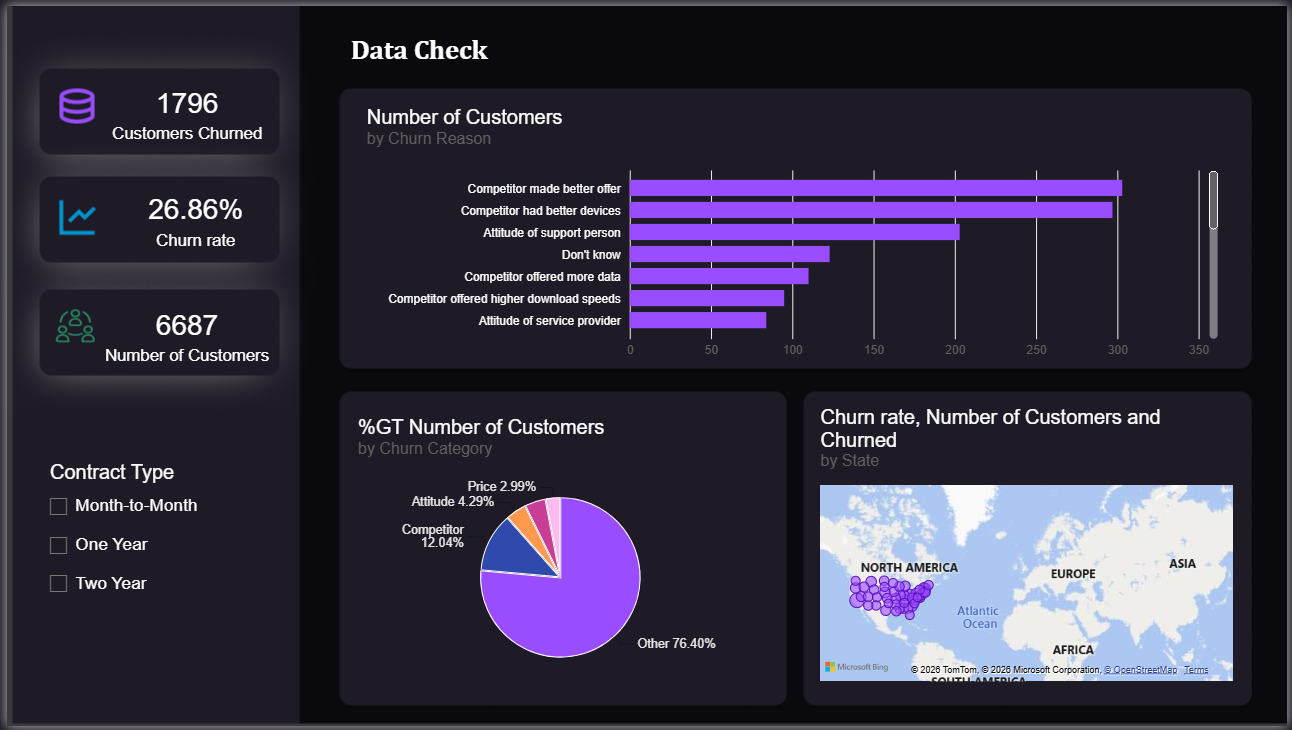

The page's visual inventory and layout, read from the dashboard file:
{"tool":"powerbi","page":{"name":"Data Check","canvas":[1280,720],"ordinal":0},"visuals":[{"type":"card","fields":{"Values":["Databel - Data.Number of Customers"]},"box":[70,264.2,220,130],"z":0},{"type":"card","title":"Customer Churned","fields":{"Values":["Sum(Databel - Data.churned cusomers)"]},"box":[78.4,60.3,202.9,92.9],"z":1000},{"type":"card","fields":{"Values":["Databel - Data.Churn rate"]},"box":[29,162.9,320,101.4],"z":2000},{"type":"clusteredBarChart","fields":{"Category":["Databel - Data.Churn Reason"],"Y":["Divide(Databel - Data.Number of Customers, ScopedEval(Databel - Data.Number of Customers, []))"]},"box":[343.8,84.5,882.9,285.7],"z":3000},{"type":"pieChart","fields":{"Category":["Databel - Data.Churn Category"],"Y":["Divide(Databel - Data.Number of Customers, ScopedEval(Databel - Data.Number of Customers, []))"]},"box":[335.4,394.5,436.7,296.8],"z":4000},{"type":"map","fields":{"Category":["Databel - Data.State"],"Size":["Databel - Data.Churn rate"]},"box":[797.5,384.9,445.2,306.4],"z":5000},{"type":"slicer","fields":{"Values":["Databel - Data.Contract Type"]},"box":[35,454.8,241.4,214.3],"z":6000},{"type":"textbox","box":[343.8,27.7,295.6,44.6],"z":7000}]}

Visuals, with their boxes in screenshot pixels (x1, y1, x2, y2), scaled from the page's 1280x720 canvas onto the 1292x730 screenshot:
card - Databel - Data.Number of Customers: <box>71,268,293,400</box>
"Customer Churned" card: <box>79,61,284,155</box>
card - Databel - Data.Churn rate: <box>29,165,352,268</box>
clusteredBarChart - Databel - Data.Churn Reason x Divide(Databel - Data.Number of Customers, ScopedEval(Databel - Data.Number of Customers, [])): <box>347,86,1238,375</box>
pieChart - Databel - Data.Churn Category x Divide(Databel - Data.Number of Customers, ScopedEval(Databel - Data.Number of Customers, [])): <box>339,400,779,701</box>
map - Databel - Data.State x Databel - Data.Churn rate: <box>805,390,1254,701</box>
slicer - Databel - Data.Contract Type: <box>35,461,279,678</box>
textbox: <box>347,28,645,73</box>
